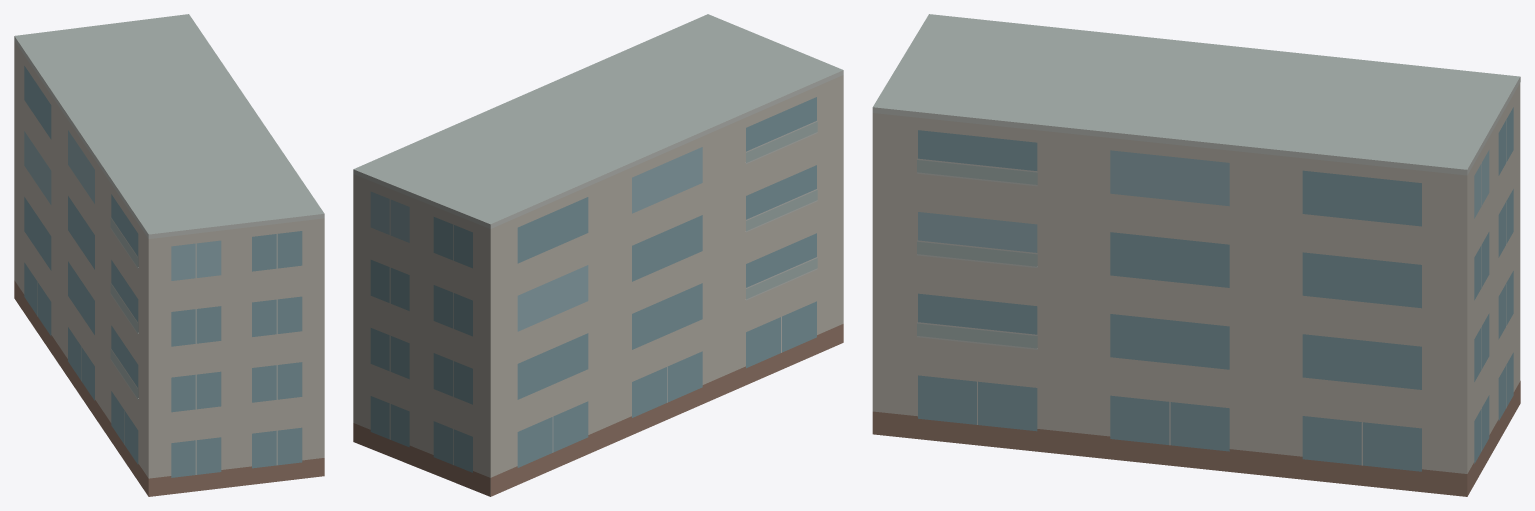
The model's file is survey-upis-32872338.glb.
The picture shows the model from 3 angles, left to right: view 1: azimuth 30°, elevation 25°; view 2: azimuth 150°, elevation 25°; view 3: azimuth 270°, elevation 25°; orthographic projection. The views are drawn at different scales.
Parts seen in each view (by area): view 1: survey-upis-32872338.tmp; view 2: survey-upis-32872338.tmp; view 3: survey-upis-32872338.tmp.
Part boxes in pixels (box(x1,y1,x2,y2)): survey-upis-32872338.tmp: box(14, 14, 324, 496); survey-upis-32872338.tmp: box(353, 14, 843, 496); survey-upis-32872338.tmp: box(872, 14, 1520, 496).
Size of the model in its own units: 14.32 by 14 by 25.14.
